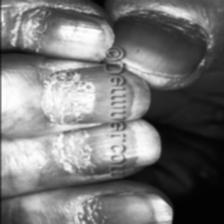Toxin: (34, 68, 146, 122), (12, 10, 110, 60), (129, 9, 201, 66), (52, 132, 152, 172), (68, 195, 172, 224)
